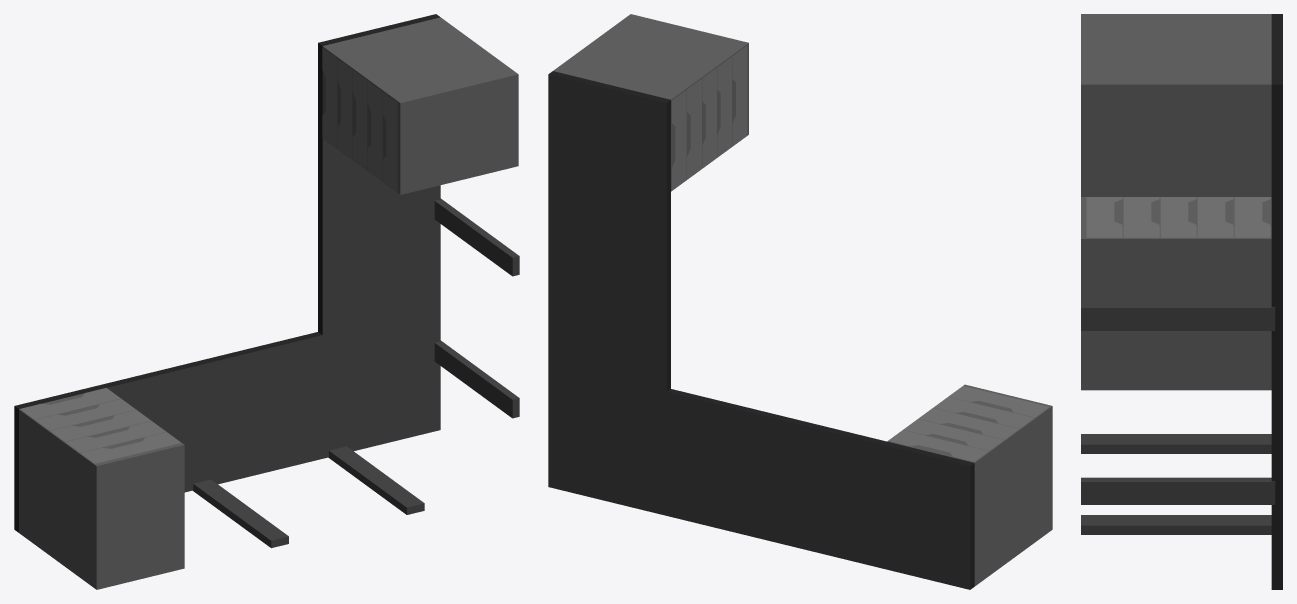
Rendered from round-table.glb.
The picture shows the model from 3 angles, left to right: view 1: azimuth 30°, elevation 25°; view 2: azimuth 150°, elevation 25°; view 3: azimuth 270°, elevation 25°; orthographic projection. The views are drawn at different scales.
Parts seen in each view (by area): view 1: office_table_033; view 2: office_table_033; view 3: office_table_033.
Part boxes in pixels (box(x1,y1,x2,y2)): office_table_033: box(14, 14, 519, 589); office_table_033: box(548, 14, 1052, 589); office_table_033: box(1081, 14, 1282, 589).
Size of the model in its own units: 2.17 by 2.03 by 0.7325.
1 material, 1 textured.
